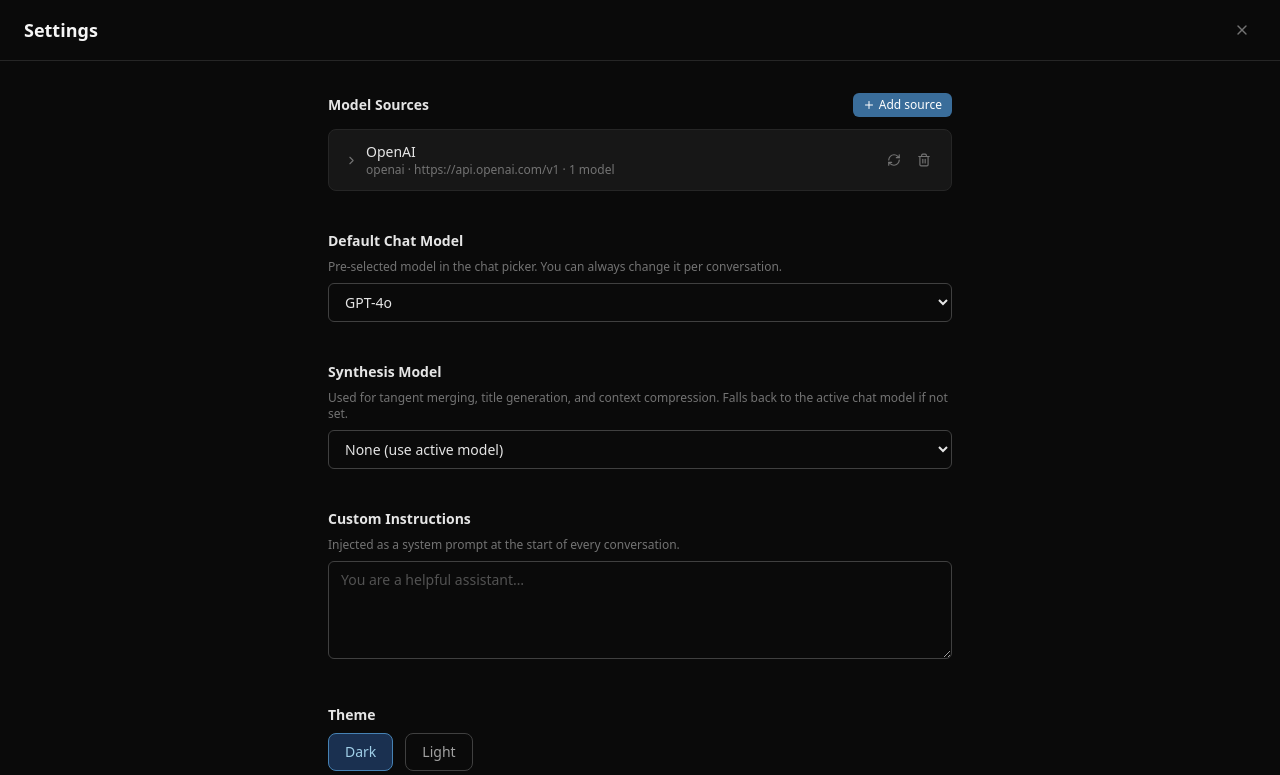
it: SettingsPage — model source refresh › shows an inline error banner when refresh returns 502
This screenshot has width=1280, height=775.
# Expand the source row (click the chevron/row header)
Click the text "OpenAI". click: (391, 152)
box: [366, 142, 416, 161]
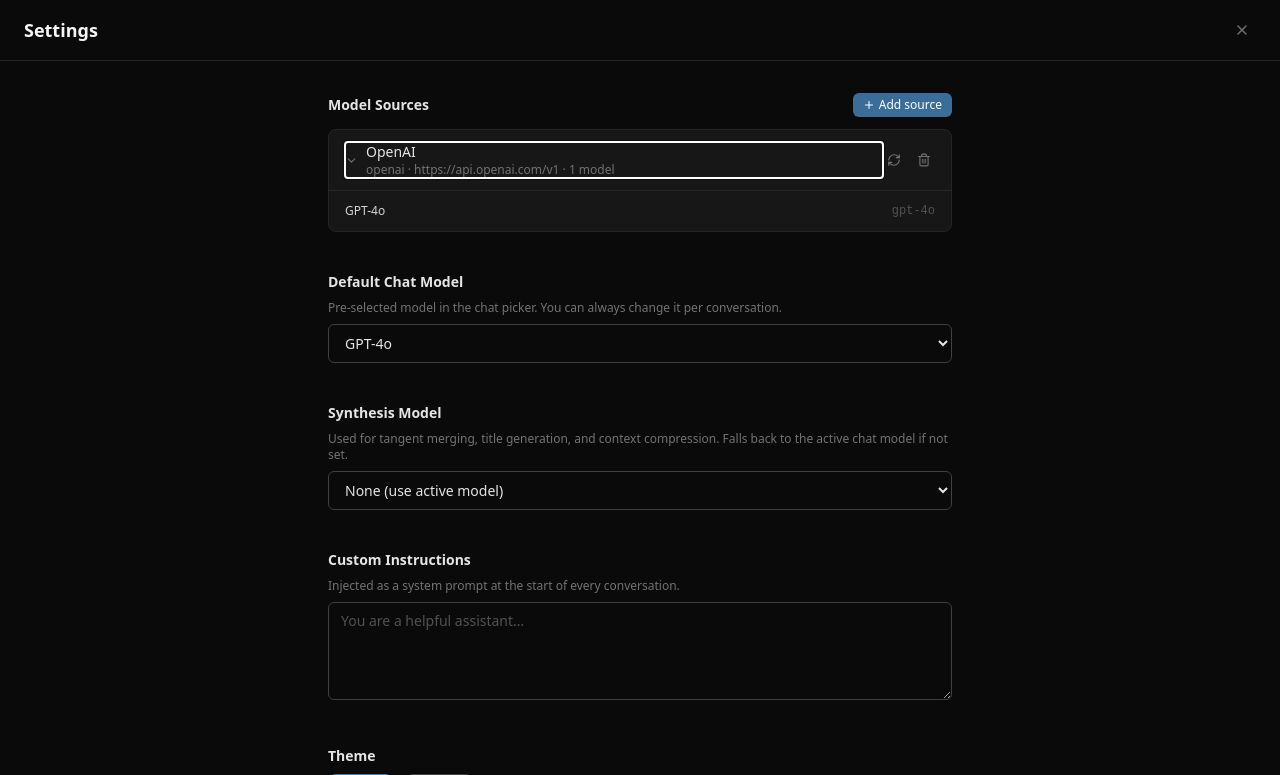
# Click the refresh button
Click the button named "refresh". click: (894, 160)
box: [883, 149, 905, 171]
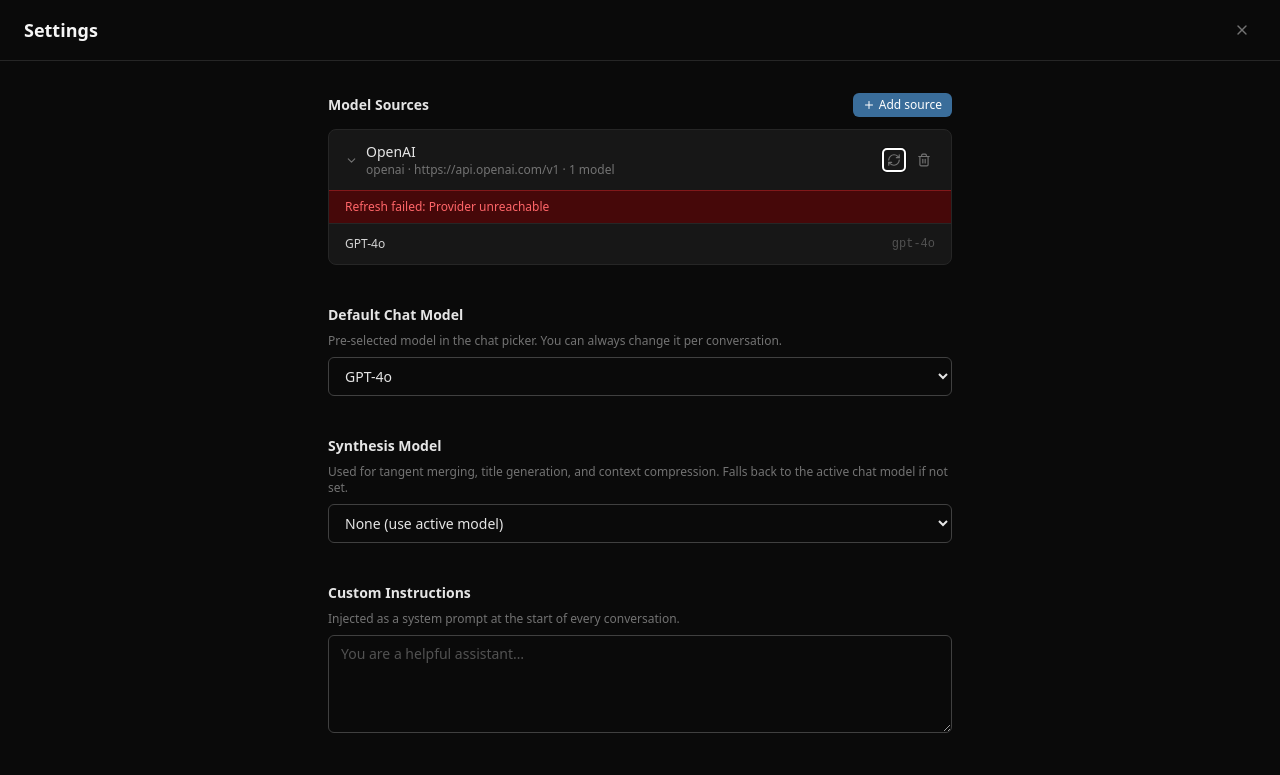
Now the text "Refresh failed: Provider unreachable" is shown, box [345, 198, 549, 215]
